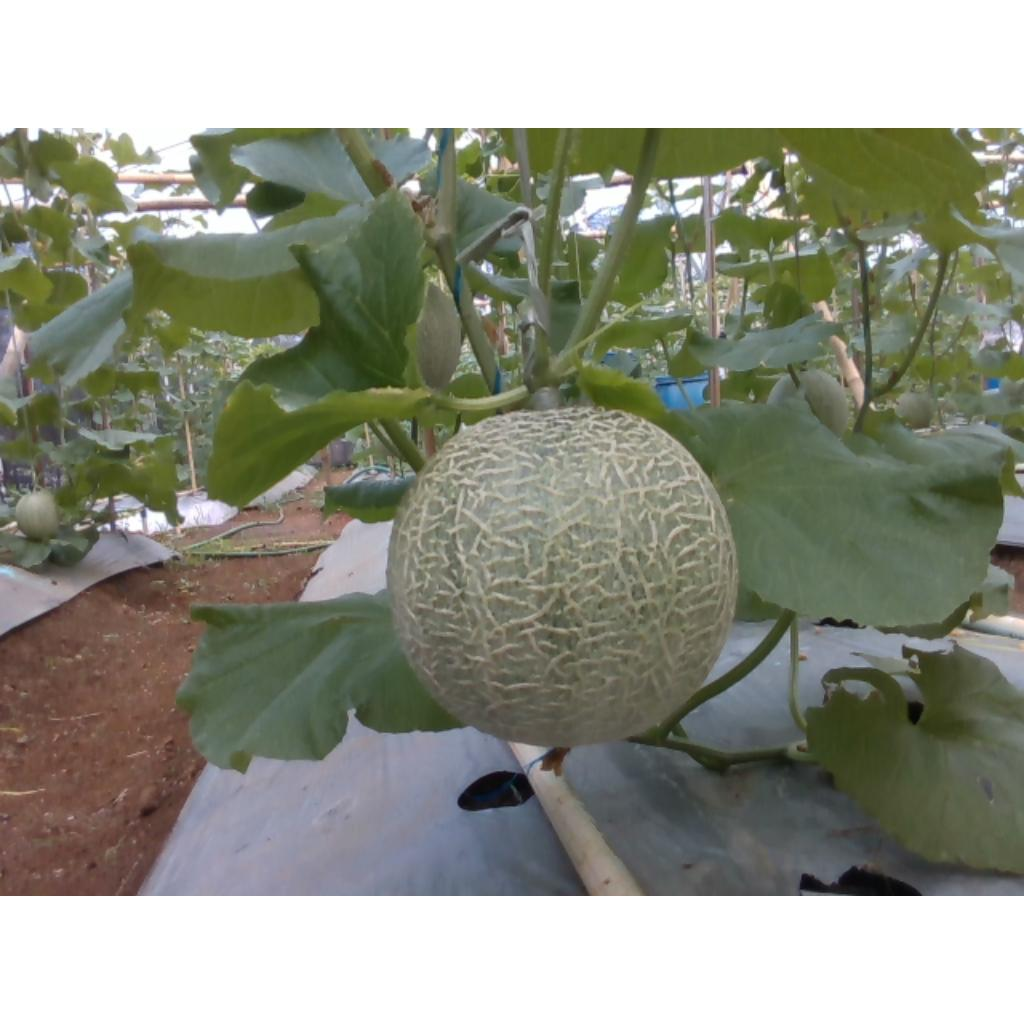melon: (389, 408, 738, 746)
